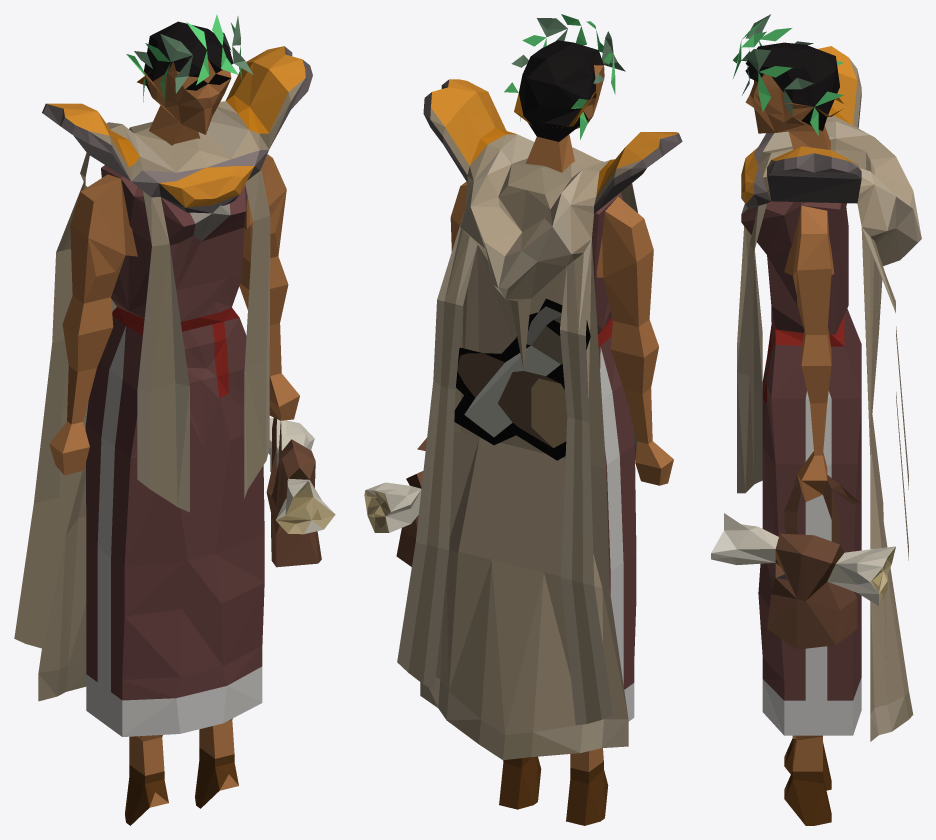
File: real-estate-agents.gltf
3 renders of one model, left to right at view 1: azimuth 30°, elevation 25°; view 2: azimuth 150°, elevation 25°; view 3: azimuth 270°, elevation 25°, orthographic. The views are drawn at different scales.
Size of the model in its own units: 75 by 199 by 49.
1 material, 1 textured.
